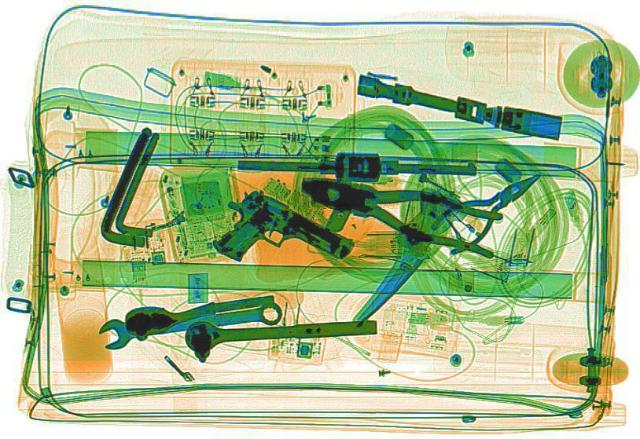Gun: (182, 184, 362, 293)
Pliers: (283, 158, 521, 259), (411, 160, 561, 255)
Wrench: (91, 296, 282, 348)
